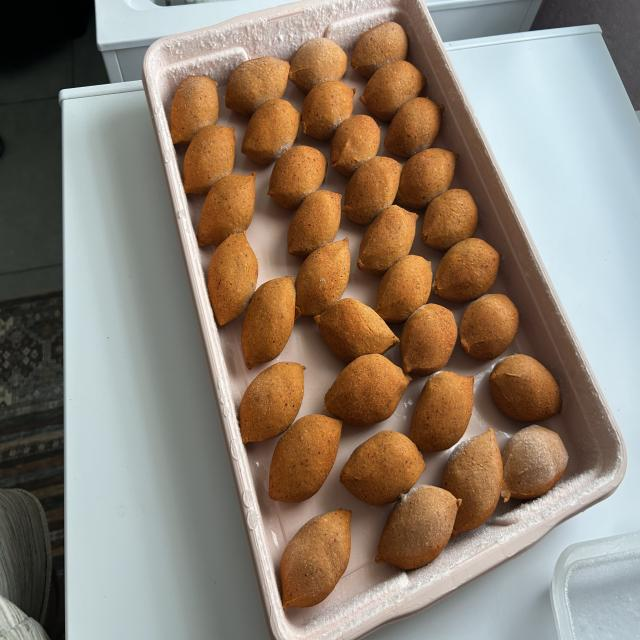kobi: (167, 18, 569, 610)
